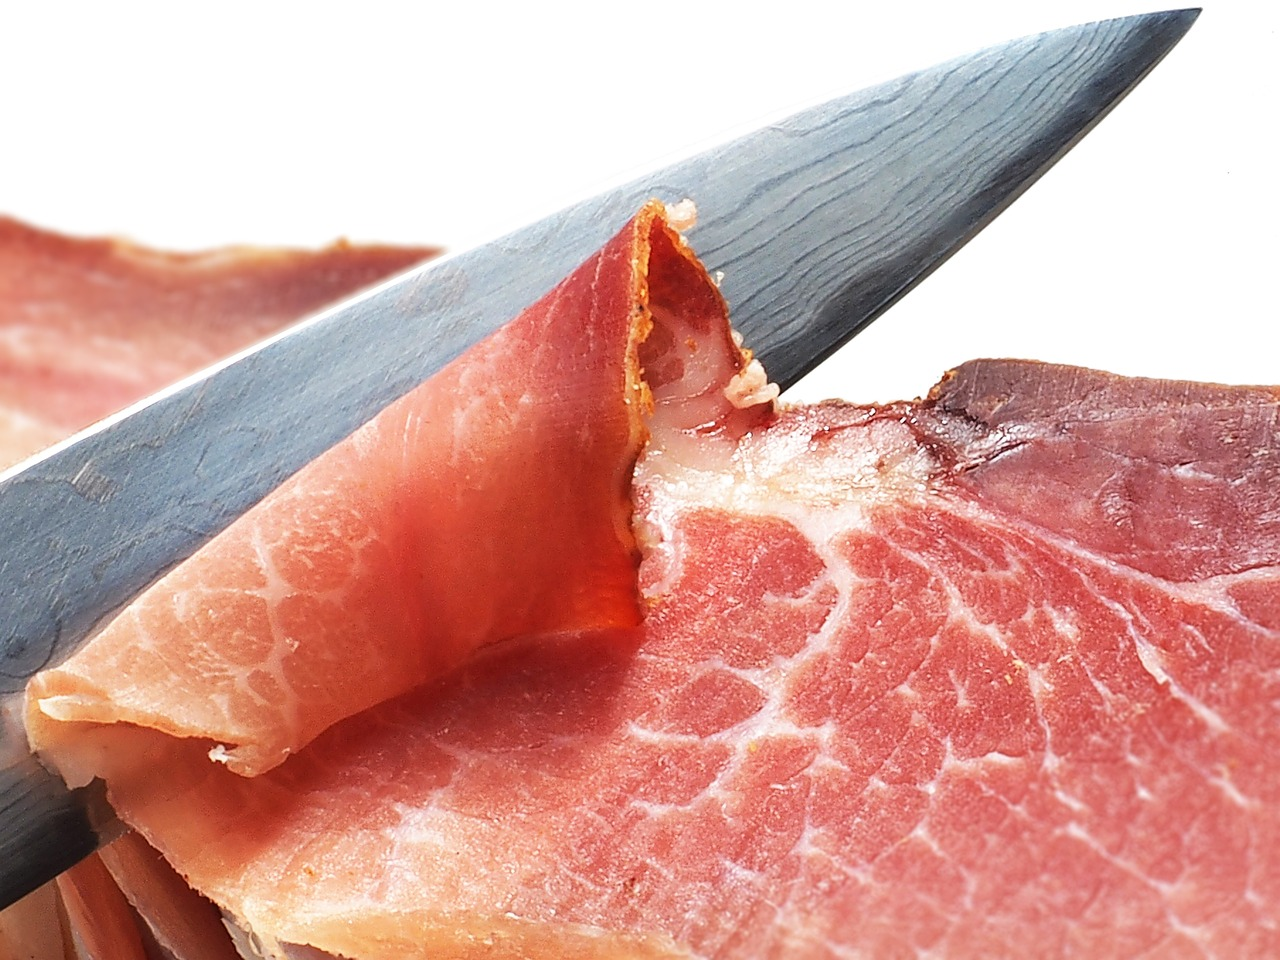knife: (0, 3, 1215, 918)
